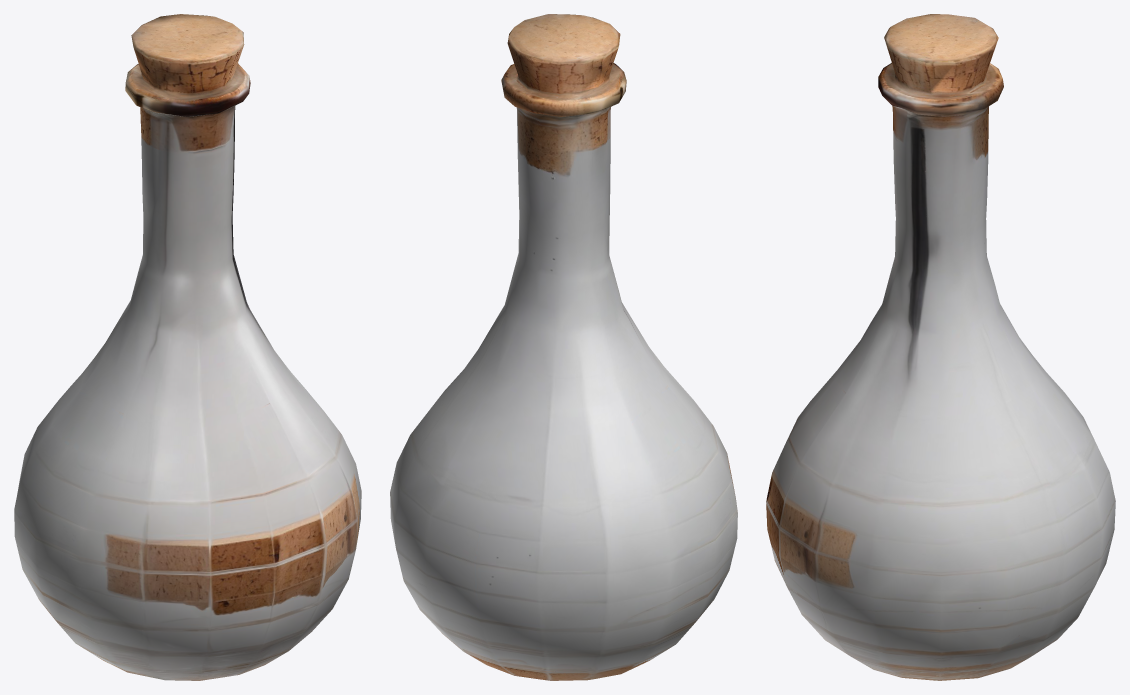
3 renders of one model, left to right at view 1: azimuth 30°, elevation 25°; view 2: azimuth 150°, elevation 25°; view 3: azimuth 270°, elevation 25°, orthographic.
Parts seen in each view (by area): view 1: Mesh1.0; view 2: Mesh1.0; view 3: Mesh1.0.
Boxes of the visible parts, box(x1,y1,x2,y2) form: Mesh1.0: box(14, 14, 361, 680); Mesh1.0: box(390, 14, 737, 680); Mesh1.0: box(766, 14, 1115, 680).
Size of the model in its own units: 104 by 201 by 103.
1 material, 1 textured.
